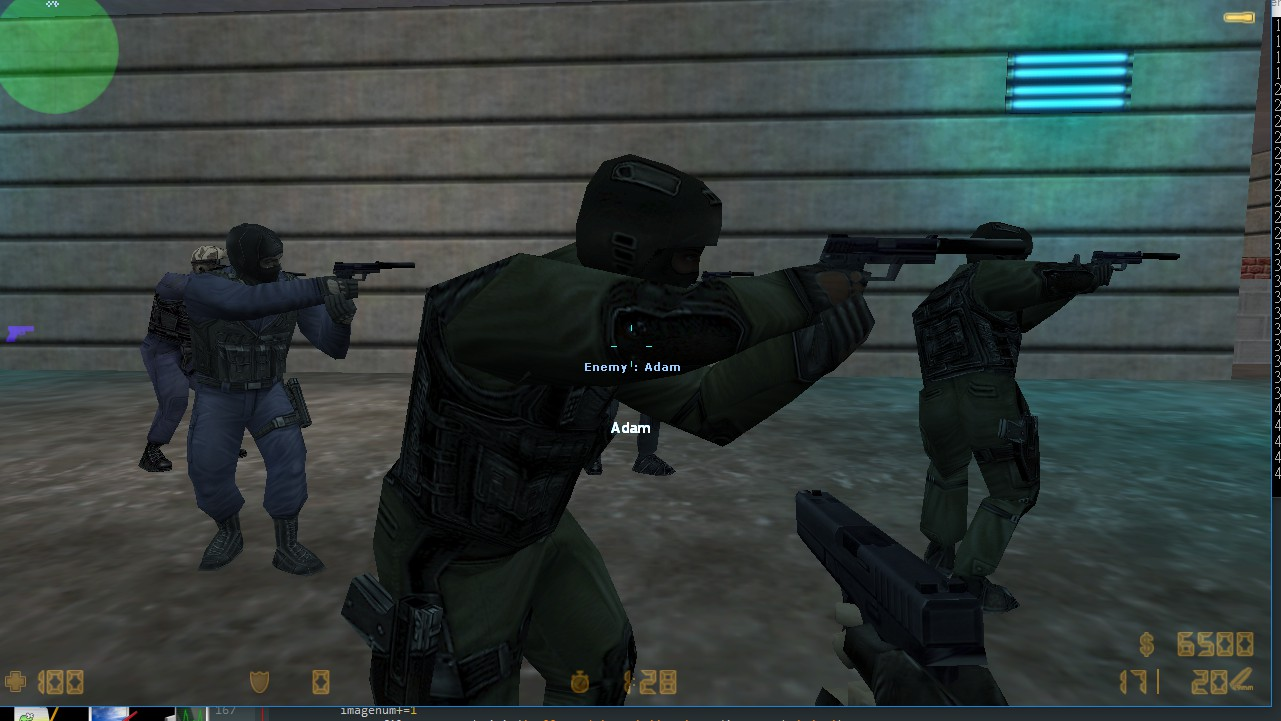person: (338, 150, 1041, 721), (907, 210, 1192, 620), (177, 207, 422, 591)
